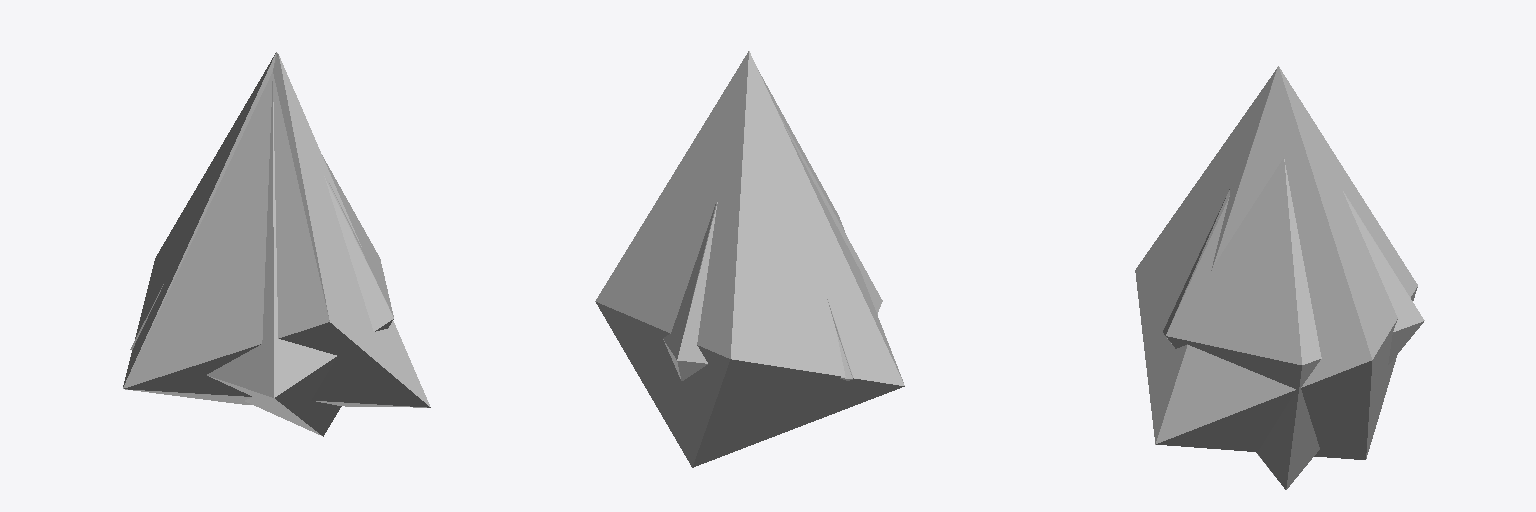
Rendered from water.obj.
3 renders of one model, left to right at view 1: azimuth 30°, elevation 25°; view 2: azimuth 150°, elevation 25°; view 3: azimuth 270°, elevation 25°, orthographic.
Visible parts, largest first — view 1: Object_2; view 2: Object_2; view 3: Object_2.
Boxes of the visible parts, x1=… form: Object_2: x1=123, y1=52, x2=430, y2=436; Object_2: x1=595, y1=51, x2=904, y2=467; Object_2: x1=1135, y1=66, x2=1424, y2=489.
Bounding box in the file's own units: 4.1 × 5.8 × 3.8.